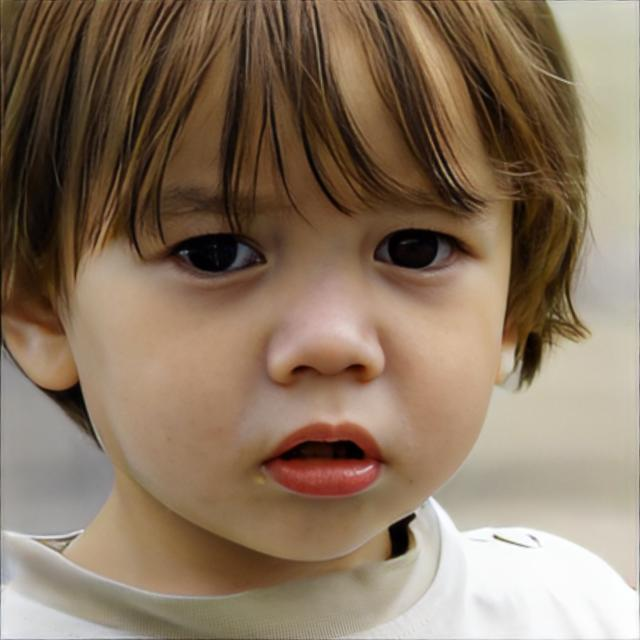sad: (49, 0, 516, 568)
